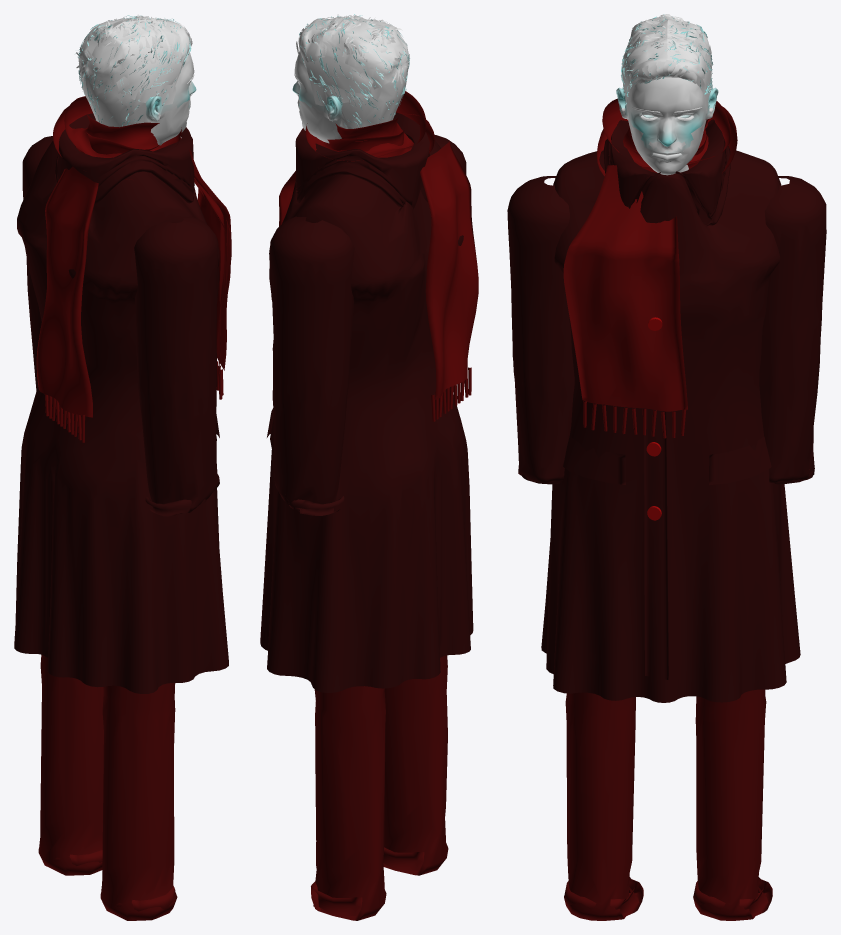
Rendered from hombre_m.glb.
The picture shows the model from 3 angles, left to right: view 1: azimuth 30°, elevation 25°; view 2: azimuth 150°, elevation 25°; view 3: azimuth 270°, elevation 25°; orthographic projection. The views are drawn at different scales.
Visible parts, largest first — view 1: ropa, pelo, piel, barba; view 2: ropa, pelo, piel, barba; view 3: ropa, pelo, piel, barba.
Part boxes in pixels (left/top/right/bottom): ropa: left=14, top=96, right=231, bottom=920; pelo: left=75, top=14, right=192, bottom=127; piel: left=145, top=51, right=196, bottom=141; barba: left=153, top=99, right=190, bottom=145; ropa: left=260, top=91, right=478, bottom=920; pelo: left=296, top=14, right=409, bottom=128; piel: left=292, top=50, right=347, bottom=139; barba: left=298, top=99, right=336, bottom=143; ropa: left=507, top=98, right=826, bottom=920; pelo: left=621, top=14, right=713, bottom=113; piel: left=616, top=77, right=718, bottom=172; barba: left=621, top=108, right=713, bottom=175.
Bounding box in the file's own units: 0.3583 × 1.7 × 0.5479.
